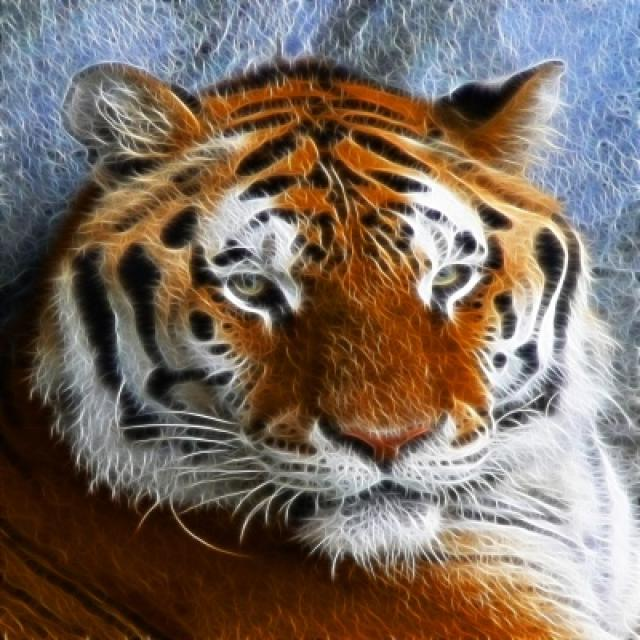Tiger: (29, 58, 638, 638)
